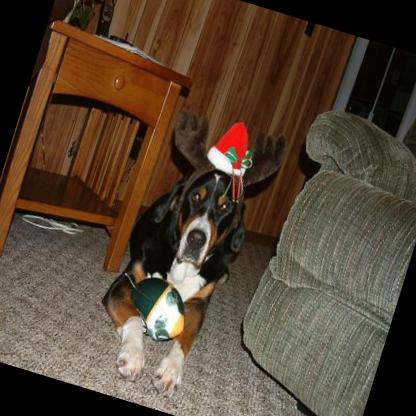Greater_Swiss_Mountain_dog: (77, 94, 294, 408)
